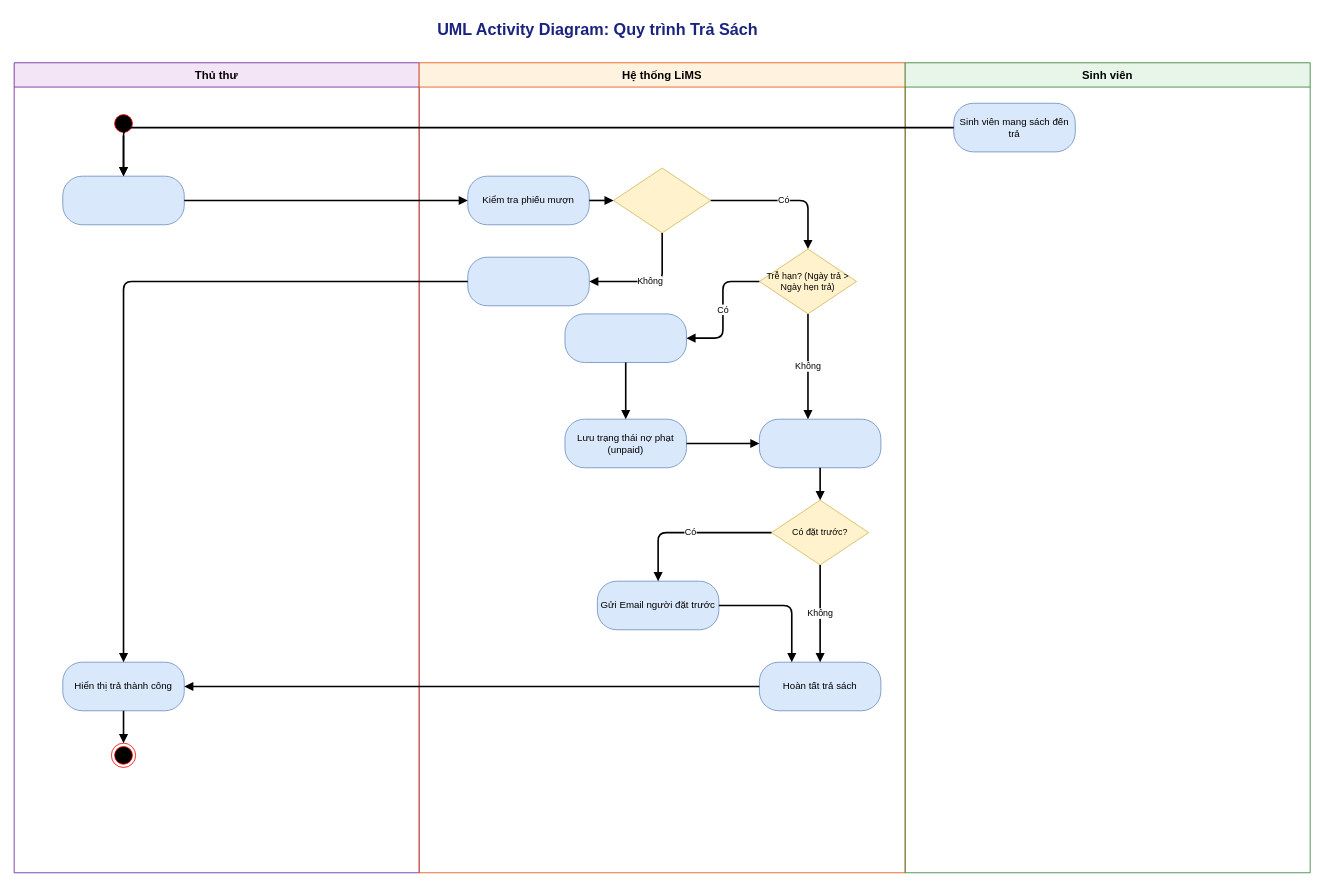
Image size: 1324x887. Some labels were removed from this diagram. Here are the shapes that lost their labels. From the top down, the centre of each, then its label:
At point (123, 200): "Xác nhận phiếu mượn".
At point (662, 200): "Phiếu hợp lệ?".
At point (528, 281): "Lỗi: Không tìm thấy phiếu".
At point (625, 337): "Tính tiền phạt (fine_amount)".
At point (820, 443): "Cập nhật trạng thái Đã trả".
